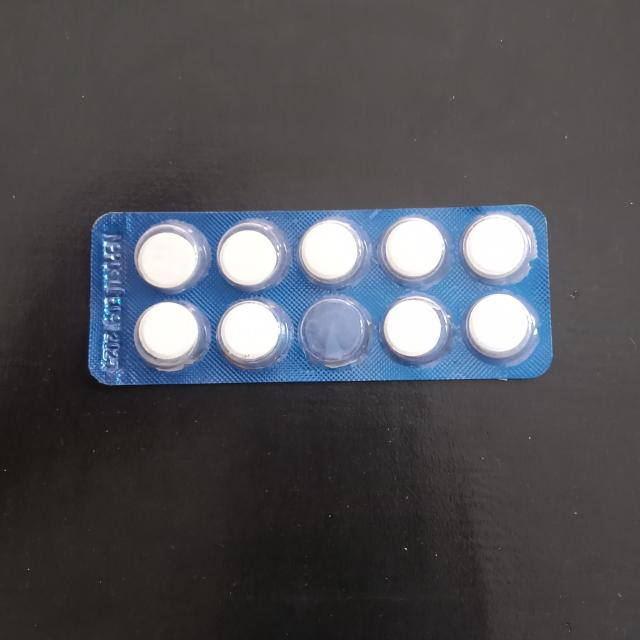defect: (296, 294, 374, 371)
